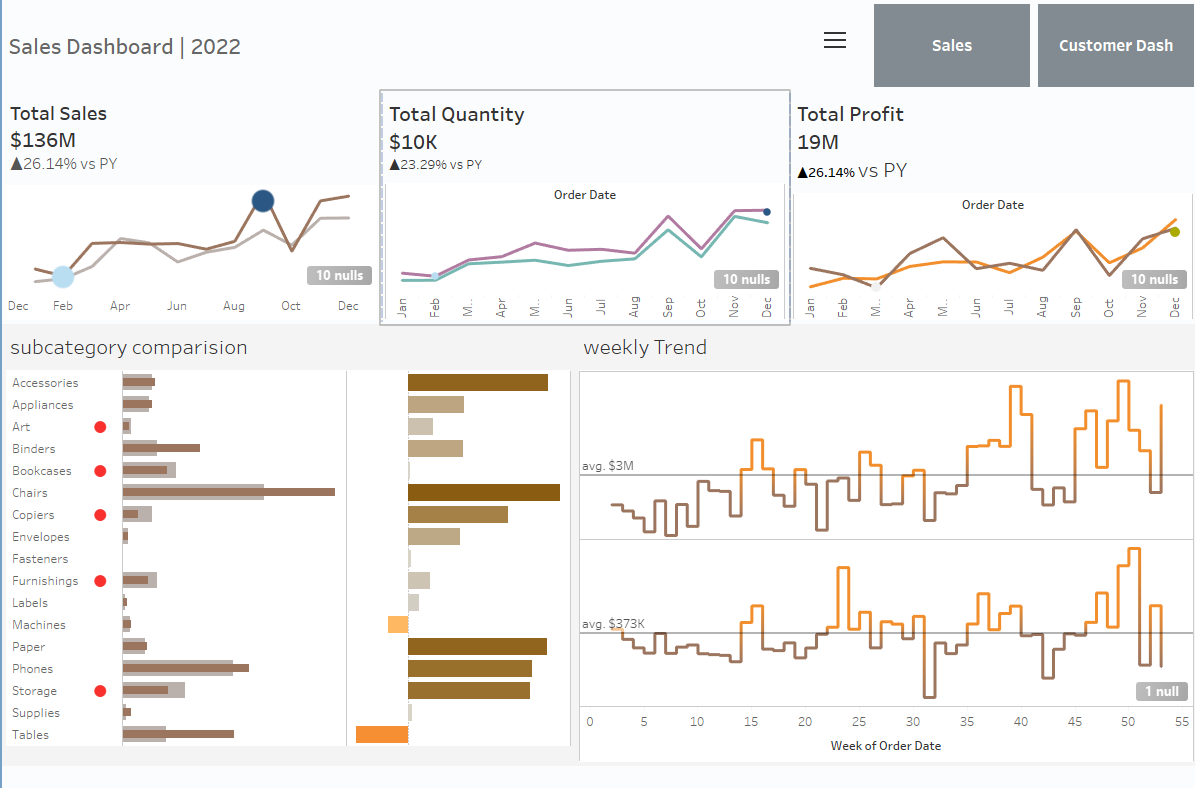

The page's visual inventory and layout, read from the dashboard file:
{"tool":"tableau","page":{"name":"Final Dashboard","canvas":[1200,800],"ordinal":0},"visuals":[{"type":"text","box":[2,2,868,91]},{"type":"dashboard-object","box":[870,2,164,91]},{"type":"dashboard-object","box":[1034,2,164,91]},{"type":"dashboard-object","box":[823,30,24,24]},{"type":"worksheet","title":"KPI sales","mark":"Automatic","rows":["Calculation_1375005311220441092"],"cols":["Order Date"],"box":[2,93,379,233]},{"type":"worksheet","title":"KPI Quantity","mark":"Automatic","rows":["min/max sales (copy)_1375005311227088905"],"cols":["Order Date"],"box":[381,93,408.4,233]},{"type":"worksheet","title":"KPI profit","mark":"Automatic","rows":["min/max quantity  (copy)_197595483668402179"],"cols":["Order Date"],"box":[789.4,93,408.4,233]},{"type":"worksheet","title":"subcategory comparision","mark":"Bar","rows":["Sub-Category","Calculation_197595483674533897"],"cols":["CY sales (copy)_1375005311205961729","Calculation_1375005311205347328","Calculation_197595483667103744"],"box":[2,326,573,442]},{"type":"worksheet","title":"weekly Trend","mark":"Automatic","rows":["Calculation_1375005311205347328","Calculation_197595483667103744"],"cols":["Order Date"],"box":[575,326,623,442]}]}

Visuals, with their boxes in screenshot pixels (x1, y1, x2, y2), scaled from the page's 1200x800 canvas onto the 1195x788 screenshot:
text: 2 2 866 92
dashboard-object: 866 2 1030 92
dashboard-object: 1030 2 1193 92
dashboard-object: 820 30 843 53
"KPI sales" worksheet: 2 92 379 321
"KPI Quantity" worksheet: 379 92 786 321
"KPI profit" worksheet: 786 92 1193 321
"subcategory comparision" worksheet (Bar marks): 2 321 573 756
"weekly Trend" worksheet: 573 321 1193 756
